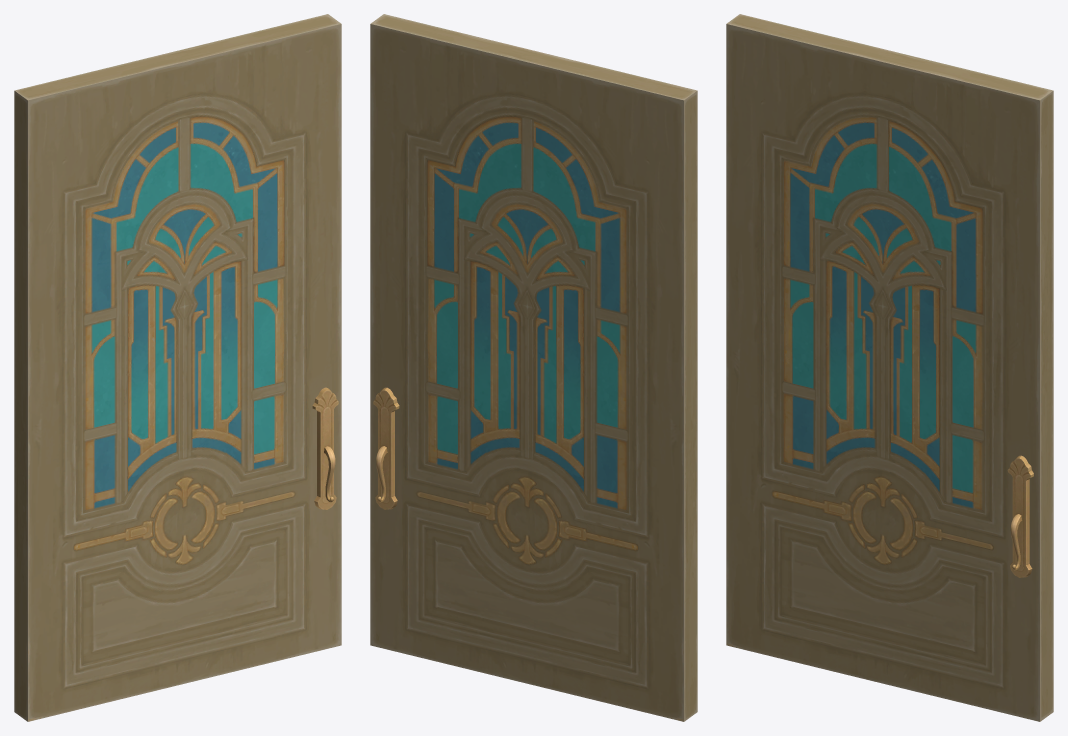
File: Homeworld_Ani_Interior_Fd_Room_Door_01_02_Vo.fbx
3 renders of one model, left to right at view 1: azimuth 30°, elevation 25°; view 2: azimuth 150°, elevation 25°; view 3: azimuth 330°, elevation 25°, orthographic.
Parts seen in each view (by area): view 1: Homeworld_Ani_Interior_Fd_Room_Door_01_02_Vo; view 2: Homeworld_Ani_Interior_Fd_Room_Door_01_02_Vo; view 3: Homeworld_Ani_Interior_Fd_Room_Door_01_02_Vo.
Part boxes in pixels (x1,y1,x2,y2): Homeworld_Ani_Interior_Fd_Room_Door_01_02_Vo: [14, 14, 341, 721]; Homeworld_Ani_Interior_Fd_Room_Door_01_02_Vo: [370, 14, 697, 721]; Homeworld_Ani_Interior_Fd_Room_Door_01_02_Vo: [726, 14, 1053, 721].
Size of the model in its own units: 1.7 by 3.21 by 0.3146.
